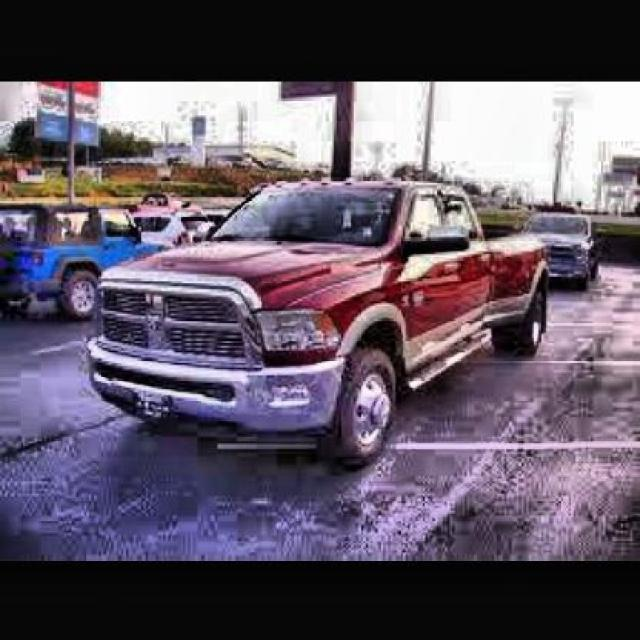maroon: (86, 175, 542, 457)
